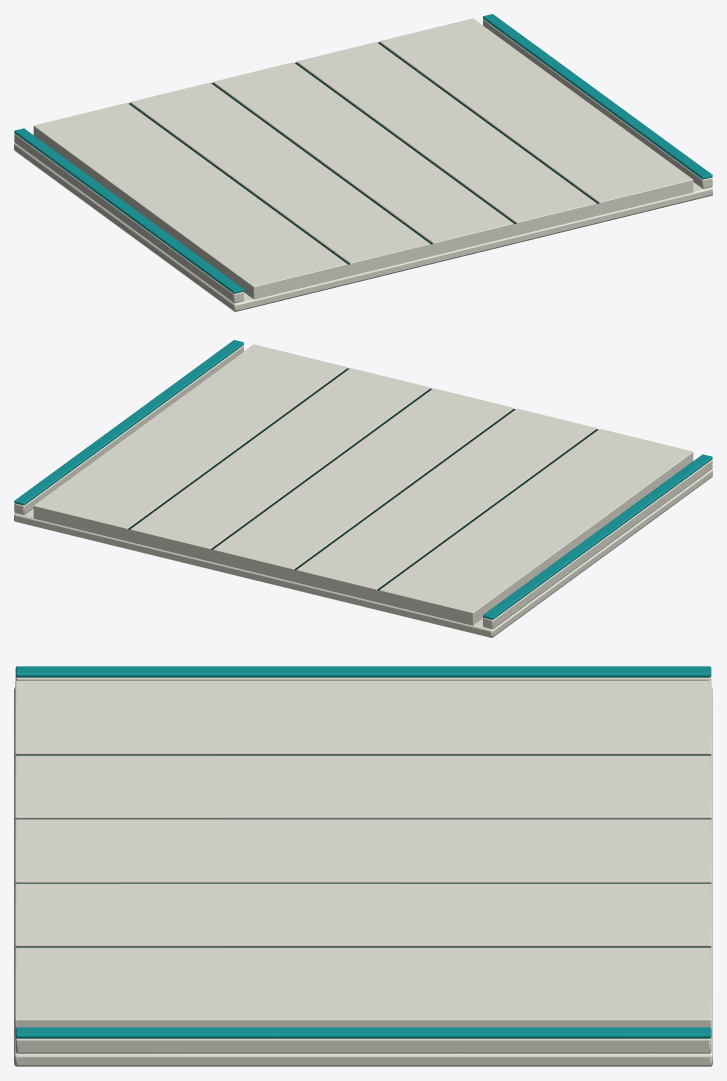
The model's file is stage.glb.
3 views of the same model, one above another, from view 1: azimuth 30°, elevation 25°; view 2: azimuth 150°, elevation 25°; view 3: azimuth 270°, elevation 25° (orthographic). The views are drawn at different scales.
Visible parts, largest first — view 1: FTG stage • four recessed lane channels, FTG stage • paper foundation, FTG stage • right teal curb crown, FTG stage • left teal curb crown, FTG stage • left cream curb, FTG stage • right cream curb; view 2: FTG stage • four recessed lane channels, FTG stage • paper foundation, FTG stage • right teal curb crown, FTG stage • left teal curb crown, FTG stage • left cream curb, FTG stage • right cream curb; view 3: FTG stage • four recessed lane channels, FTG stage • paper foundation, FTG stage • right cream curb, FTG stage • left teal curb crown, FTG stage • right teal curb crown, FTG stage • left cream curb.
Boxes of the visible parts, x1,y1,x2,y2 form: FTG stage • four recessed lane channels: (33, 18, 693, 299); FTG stage • paper foundation: (14, 143, 712, 311); FTG stage • right teal curb crown: (483, 14, 712, 179); FTG stage • left teal curb crown: (14, 128, 243, 293); FTG stage • left cream curb: (14, 133, 243, 303); FTG stage • right cream curb: (483, 19, 712, 188); FTG stage • four recessed lane channels: (33, 344, 693, 625); FTG stage • paper foundation: (14, 469, 712, 637); FTG stage • right teal curb crown: (14, 340, 243, 505); FTG stage • left teal curb crown: (483, 454, 712, 619); FTG stage • left cream curb: (483, 459, 712, 629); FTG stage • right cream curb: (14, 345, 243, 514); FTG stage • four recessed lane channels: (15, 681, 711, 1039); FTG stage • paper foundation: (14, 687, 712, 1066); FTG stage • right cream curb: (15, 1037, 711, 1053); FTG stage • left teal curb crown: (15, 666, 711, 677); FTG stage • right teal curb crown: (15, 1027, 711, 1038); FTG stage • left cream curb: (15, 676, 711, 680).
Size of the model in its own units: 10 by 0.6 by 8.
